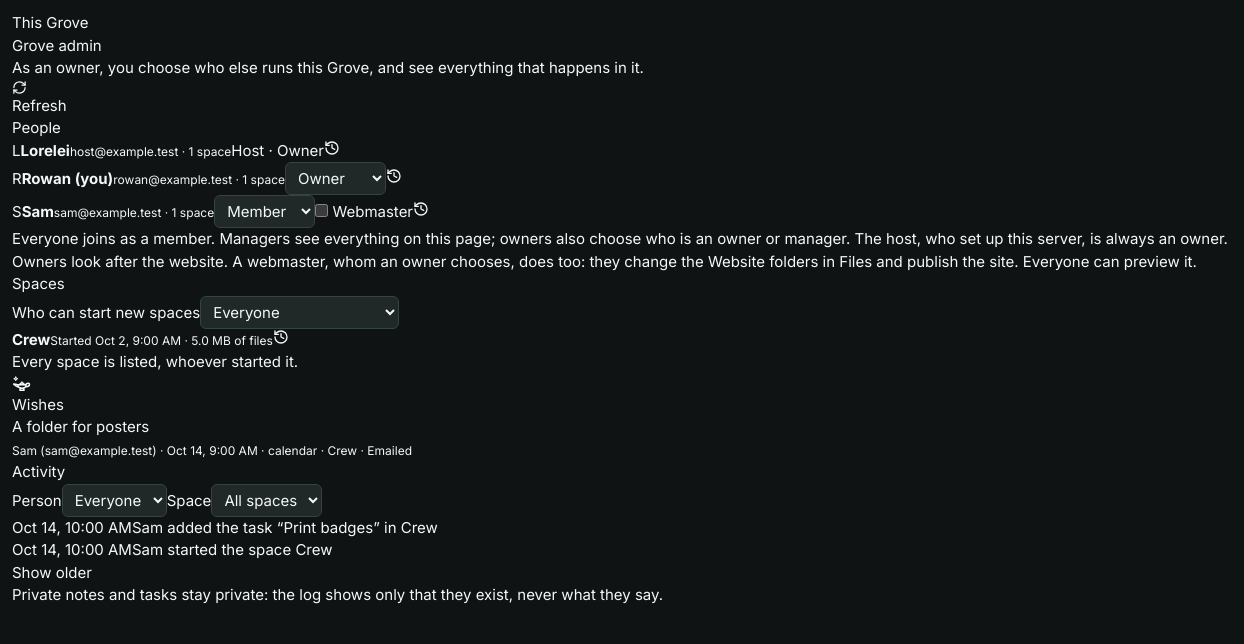
Test: lets an owner keep space-starting to owners and managers
Step 1. Select "Owners and managers" in the dropdown labelled "Who can start new spaces" → (300, 312), box [200,296,399,328]
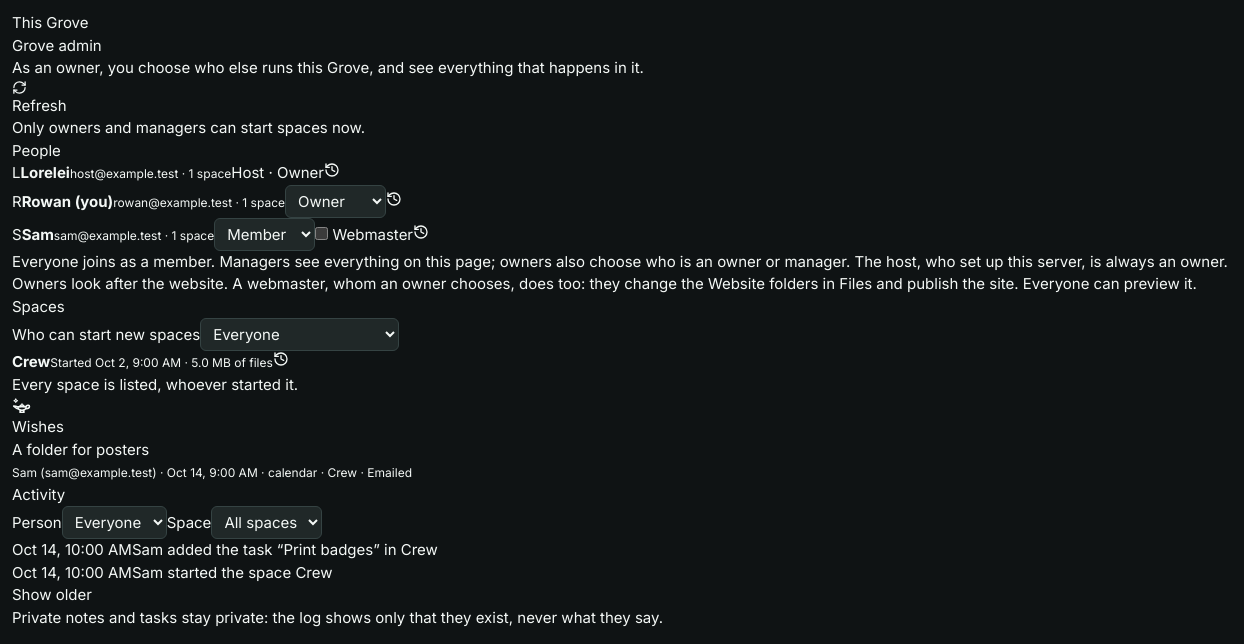
Now the text "Only owners and managers can start spaces now." is shown, box [12,118,365,137]
